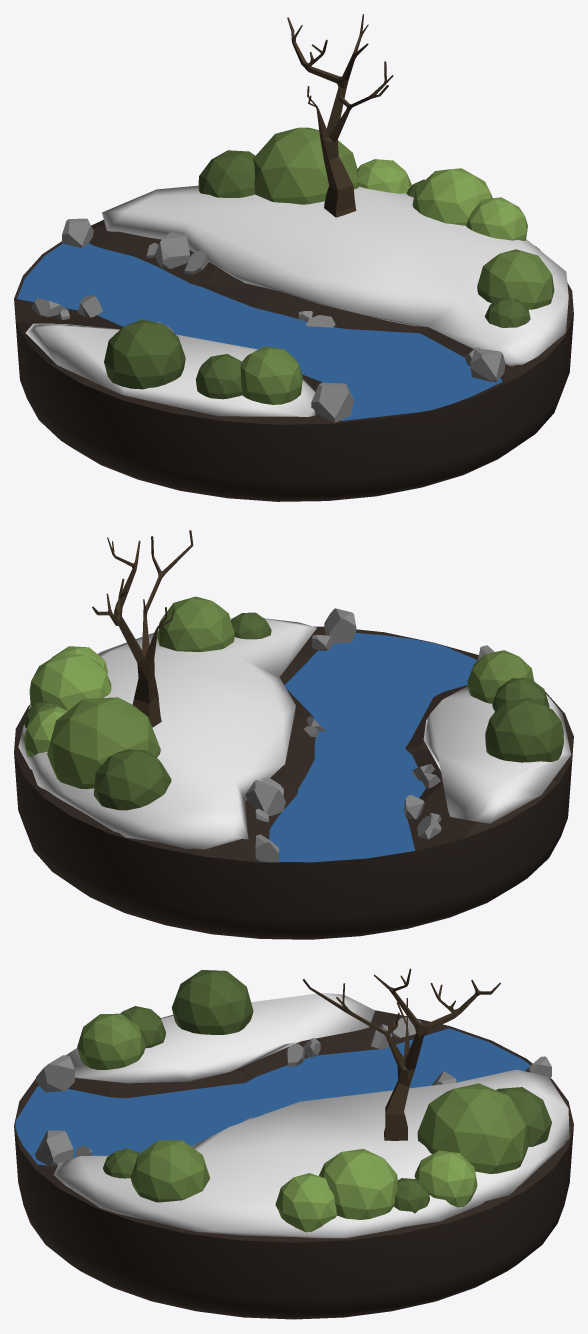
Rendered from WinterV1.glb.
The picture shows the model from 3 angles, top to bottom: view 1: azimuth 30°, elevation 25°; view 2: azimuth 150°, elevation 25°; view 3: azimuth 270°, elevation 25°; orthographic projection.
Visible parts, largest first — view 1: Ground-winter.001, SNOW_LEFT_FINAL, River_plane.001, SNOW_RIGHT_FINAL, Bush2.004, Bush2.007, Big tree.002, Bush4.001, Bush2.005, Bush2.006, Bush1.001, Bush3.002 (+7 smaller); view 2: Ground-winter.001, SNOW_LEFT_FINAL, River_plane.001, SNOW_RIGHT_FINAL, Bush2.004, Bush2.007, Big tree.002, Bush1.001, Bush2.005, Bush4.001, Bush2.006, Bush3.003 (+5 smaller); view 3: Ground-winter.001, SNOW_LEFT_FINAL, River_plane.001, SNOW_RIGHT_FINAL, Bush2.004, Bush2.007, Bush2.005, Big tree.002, Bush4.001, Bush2.006, Bush3.002, Bush3.003 (+6 smaller).
Part boxes in pixels (left/top/right/bottom): Ground-winter.001: left=14, top=219, right=573, bottom=501; SNOW_LEFT_FINAL: left=102, top=185, right=568, bottom=366; River_plane.001: left=17, top=243, right=502, bottom=420; SNOW_RIGHT_FINAL: left=25, top=323, right=315, bottom=416; Bush2.004: left=253, top=127, right=358, bottom=204; Bush2.007: left=104, top=319, right=185, bottom=389; Big tree.002: left=287, top=14, right=393, bottom=217; Bush4.001: left=477, top=249, right=554, bottom=309; Bush2.005: left=412, top=168, right=492, bottom=225; Bush2.006: left=240, top=346, right=302, bottom=404; Bush1.001: left=198, top=150, right=255, bottom=197; Bush3.002: left=466, top=197, right=527, bottom=240; Ground-winter.001: left=14, top=626, right=573, bottom=939; SNOW_LEFT_FINAL: left=18, top=618, right=316, bottom=849; River_plane.001: left=259, top=633, right=477, bottom=862; SNOW_RIGHT_FINAL: left=423, top=686, right=570, bottom=823; Bush2.004: left=47, top=697, right=160, bottom=789; Bush2.007: left=485, top=698, right=563, bottom=762; Big tree.002: left=92, top=530, right=193, bottom=727; Bush1.001: left=94, top=749, right=171, bottom=810; Bush2.005: left=29, top=652, right=111, bottom=710; Bush4.001: left=157, top=596, right=234, bottom=651; Bush2.006: left=467, top=650, right=533, bottom=703; Bush3.003: left=23, top=706, right=67, bottom=757; Ground-winter.001: left=14, top=1010, right=573, bottom=1319; SNOW_LEFT_FINAL: left=53, top=1069, right=569, bottom=1238; River_plane.001: left=15, top=1028, right=530, bottom=1165; SNOW_RIGHT_FINAL: left=66, top=993, right=374, bottom=1083; Bush2.004: left=417, top=1083, right=528, bottom=1173; Bush2.007: left=171, top=970, right=253, bottom=1034; Bush2.005: left=319, top=1148, right=397, bottom=1219; Big tree.002: left=302, top=968, right=500, bottom=1140; Bush4.001: left=130, top=1140, right=209, bottom=1202; Bush2.006: left=77, top=1013, right=145, bottom=1069; Bush3.002: left=275, top=1173, right=336, bottom=1232; Bush3.003: left=414, top=1150, right=477, bottom=1207.
Size of the model in its own units: 2.17 by 1.34 by 2.17.
